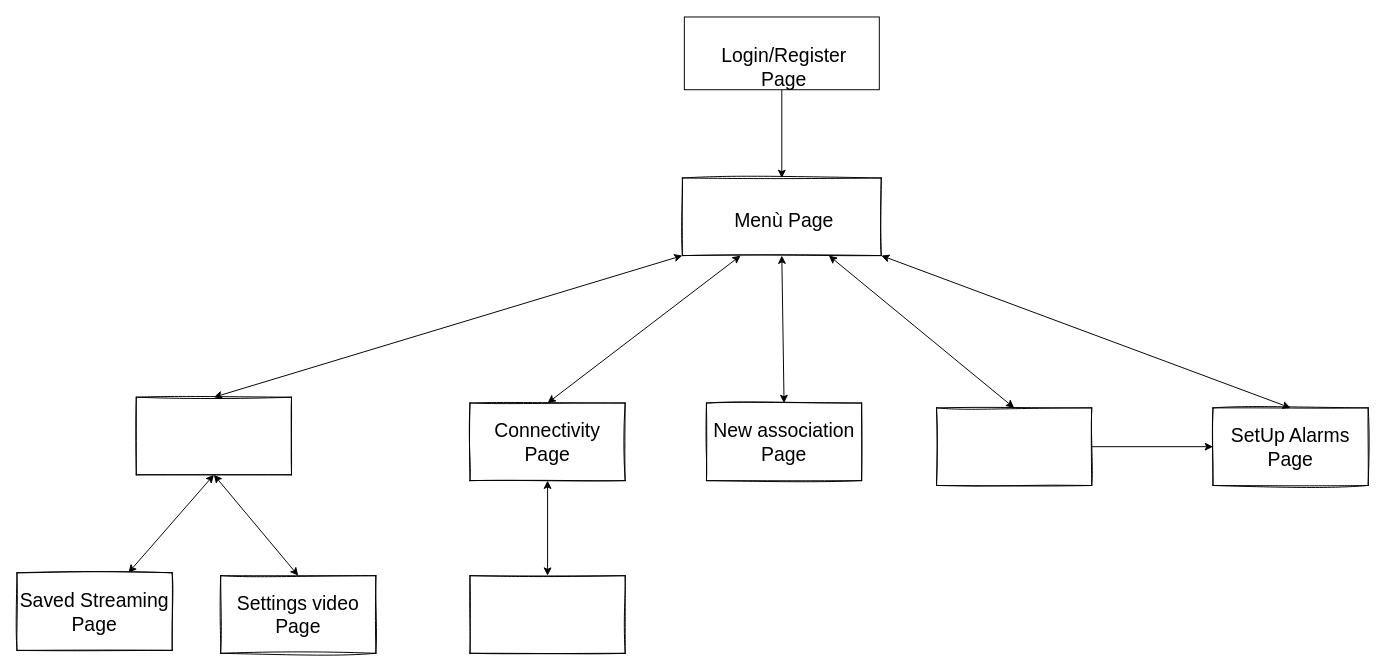
This 1385x670 diagram has some shape labels left out. The centre of each missing label's shape, as x and y in pixels:
"SetUp Page" goes at (547,614).
"Streaming Page" goes at (213,435).
"Tracking Page" goes at (1014,446).
